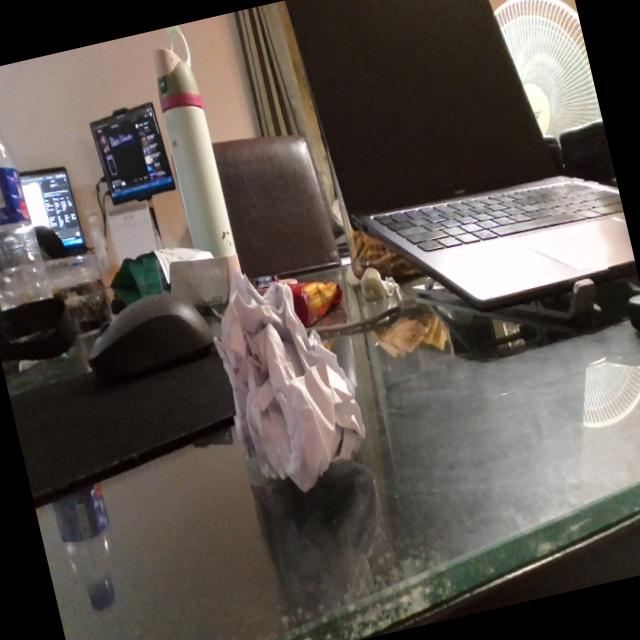crumpled_paper: (195, 248, 381, 515)
